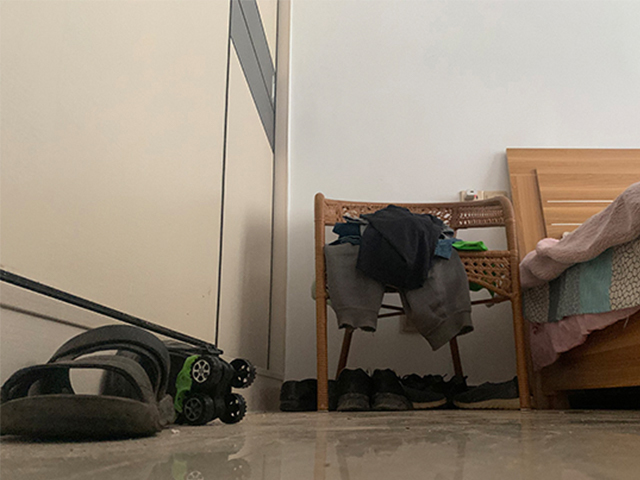bed: (506, 147, 640, 410)
cabinet: (1, 1, 291, 421)
slippers: (2, 322, 177, 443)
stool: (313, 192, 531, 413)
